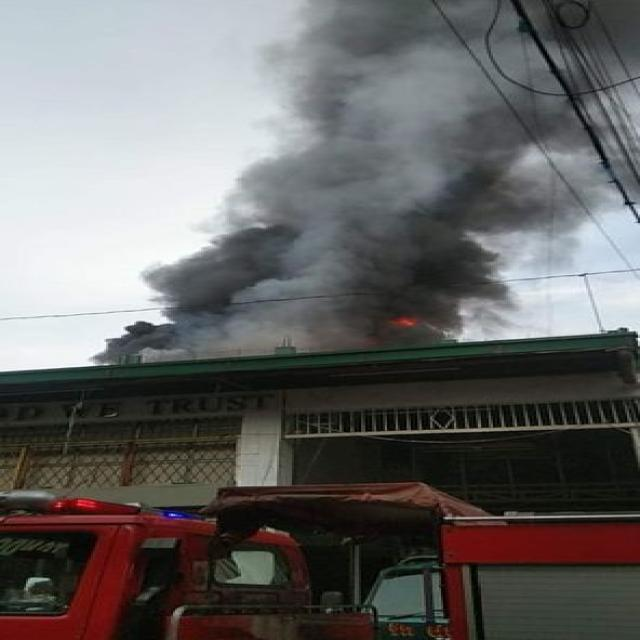Fire: (388, 312, 423, 330)
Smoke: (98, 0, 596, 361)
